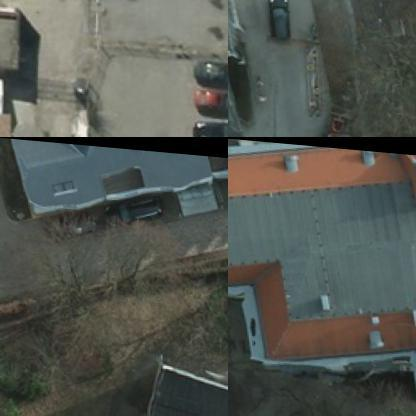car: (190, 37, 227, 97), (190, 70, 227, 129), (116, 195, 170, 230), (190, 102, 227, 136), (270, 0, 295, 39)
